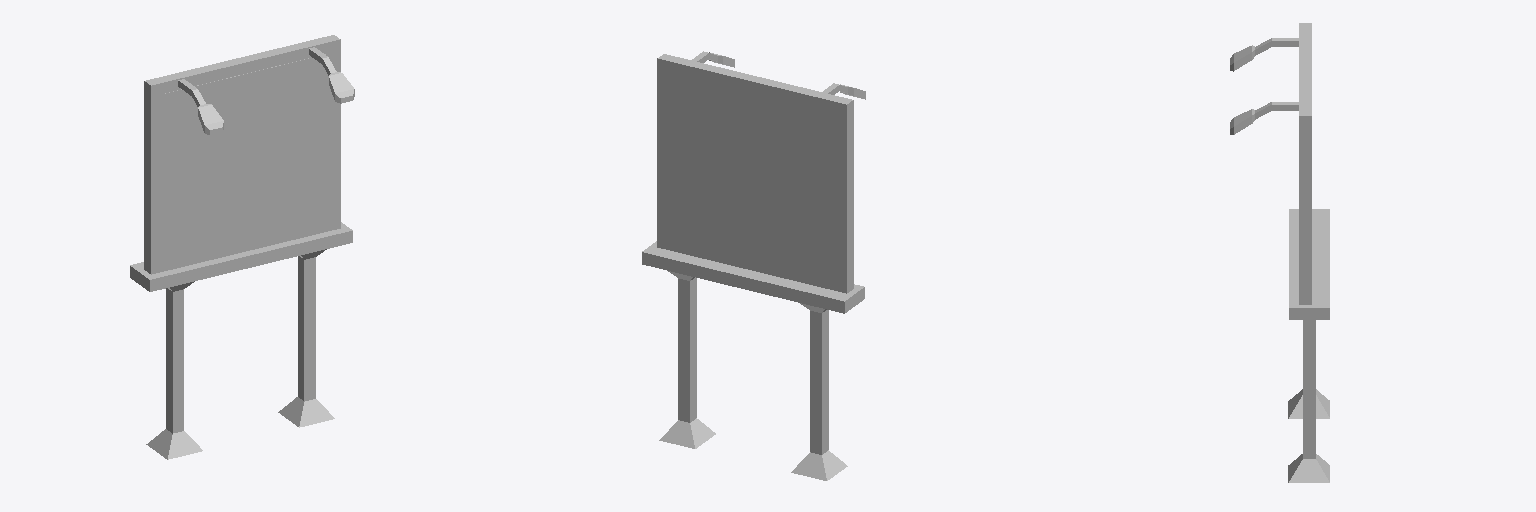
The model's file is Props_BillBoard_medium.obj.
3 views of the same model, side by side, from view 1: azimuth 30°, elevation 25°; view 2: azimuth 150°, elevation 25°; view 3: azimuth 270°, elevation 25° (orthographic).
Visible parts, largest first — view 1: Props_BillBoard_medium; view 2: Props_BillBoard_medium; view 3: Props_BillBoard_medium.
Boxes of the visible parts, x1=… form: Props_BillBoard_medium: x1=130, y1=35, x2=354, y2=459; Props_BillBoard_medium: x1=642, y1=51, x2=865, y2=480; Props_BillBoard_medium: x1=1230, y1=23, x2=1329, y2=482.
Size of the model in its own units: 121 by 212 by 51.99.